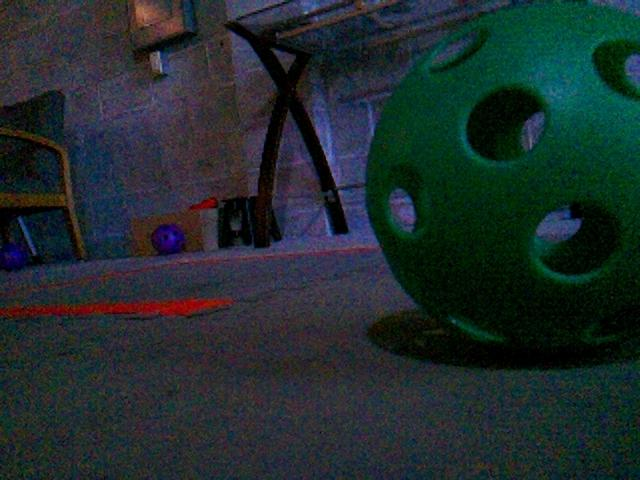Green: (364, 5, 640, 353)
Purple: (150, 223, 187, 256), (0, 241, 30, 272)
